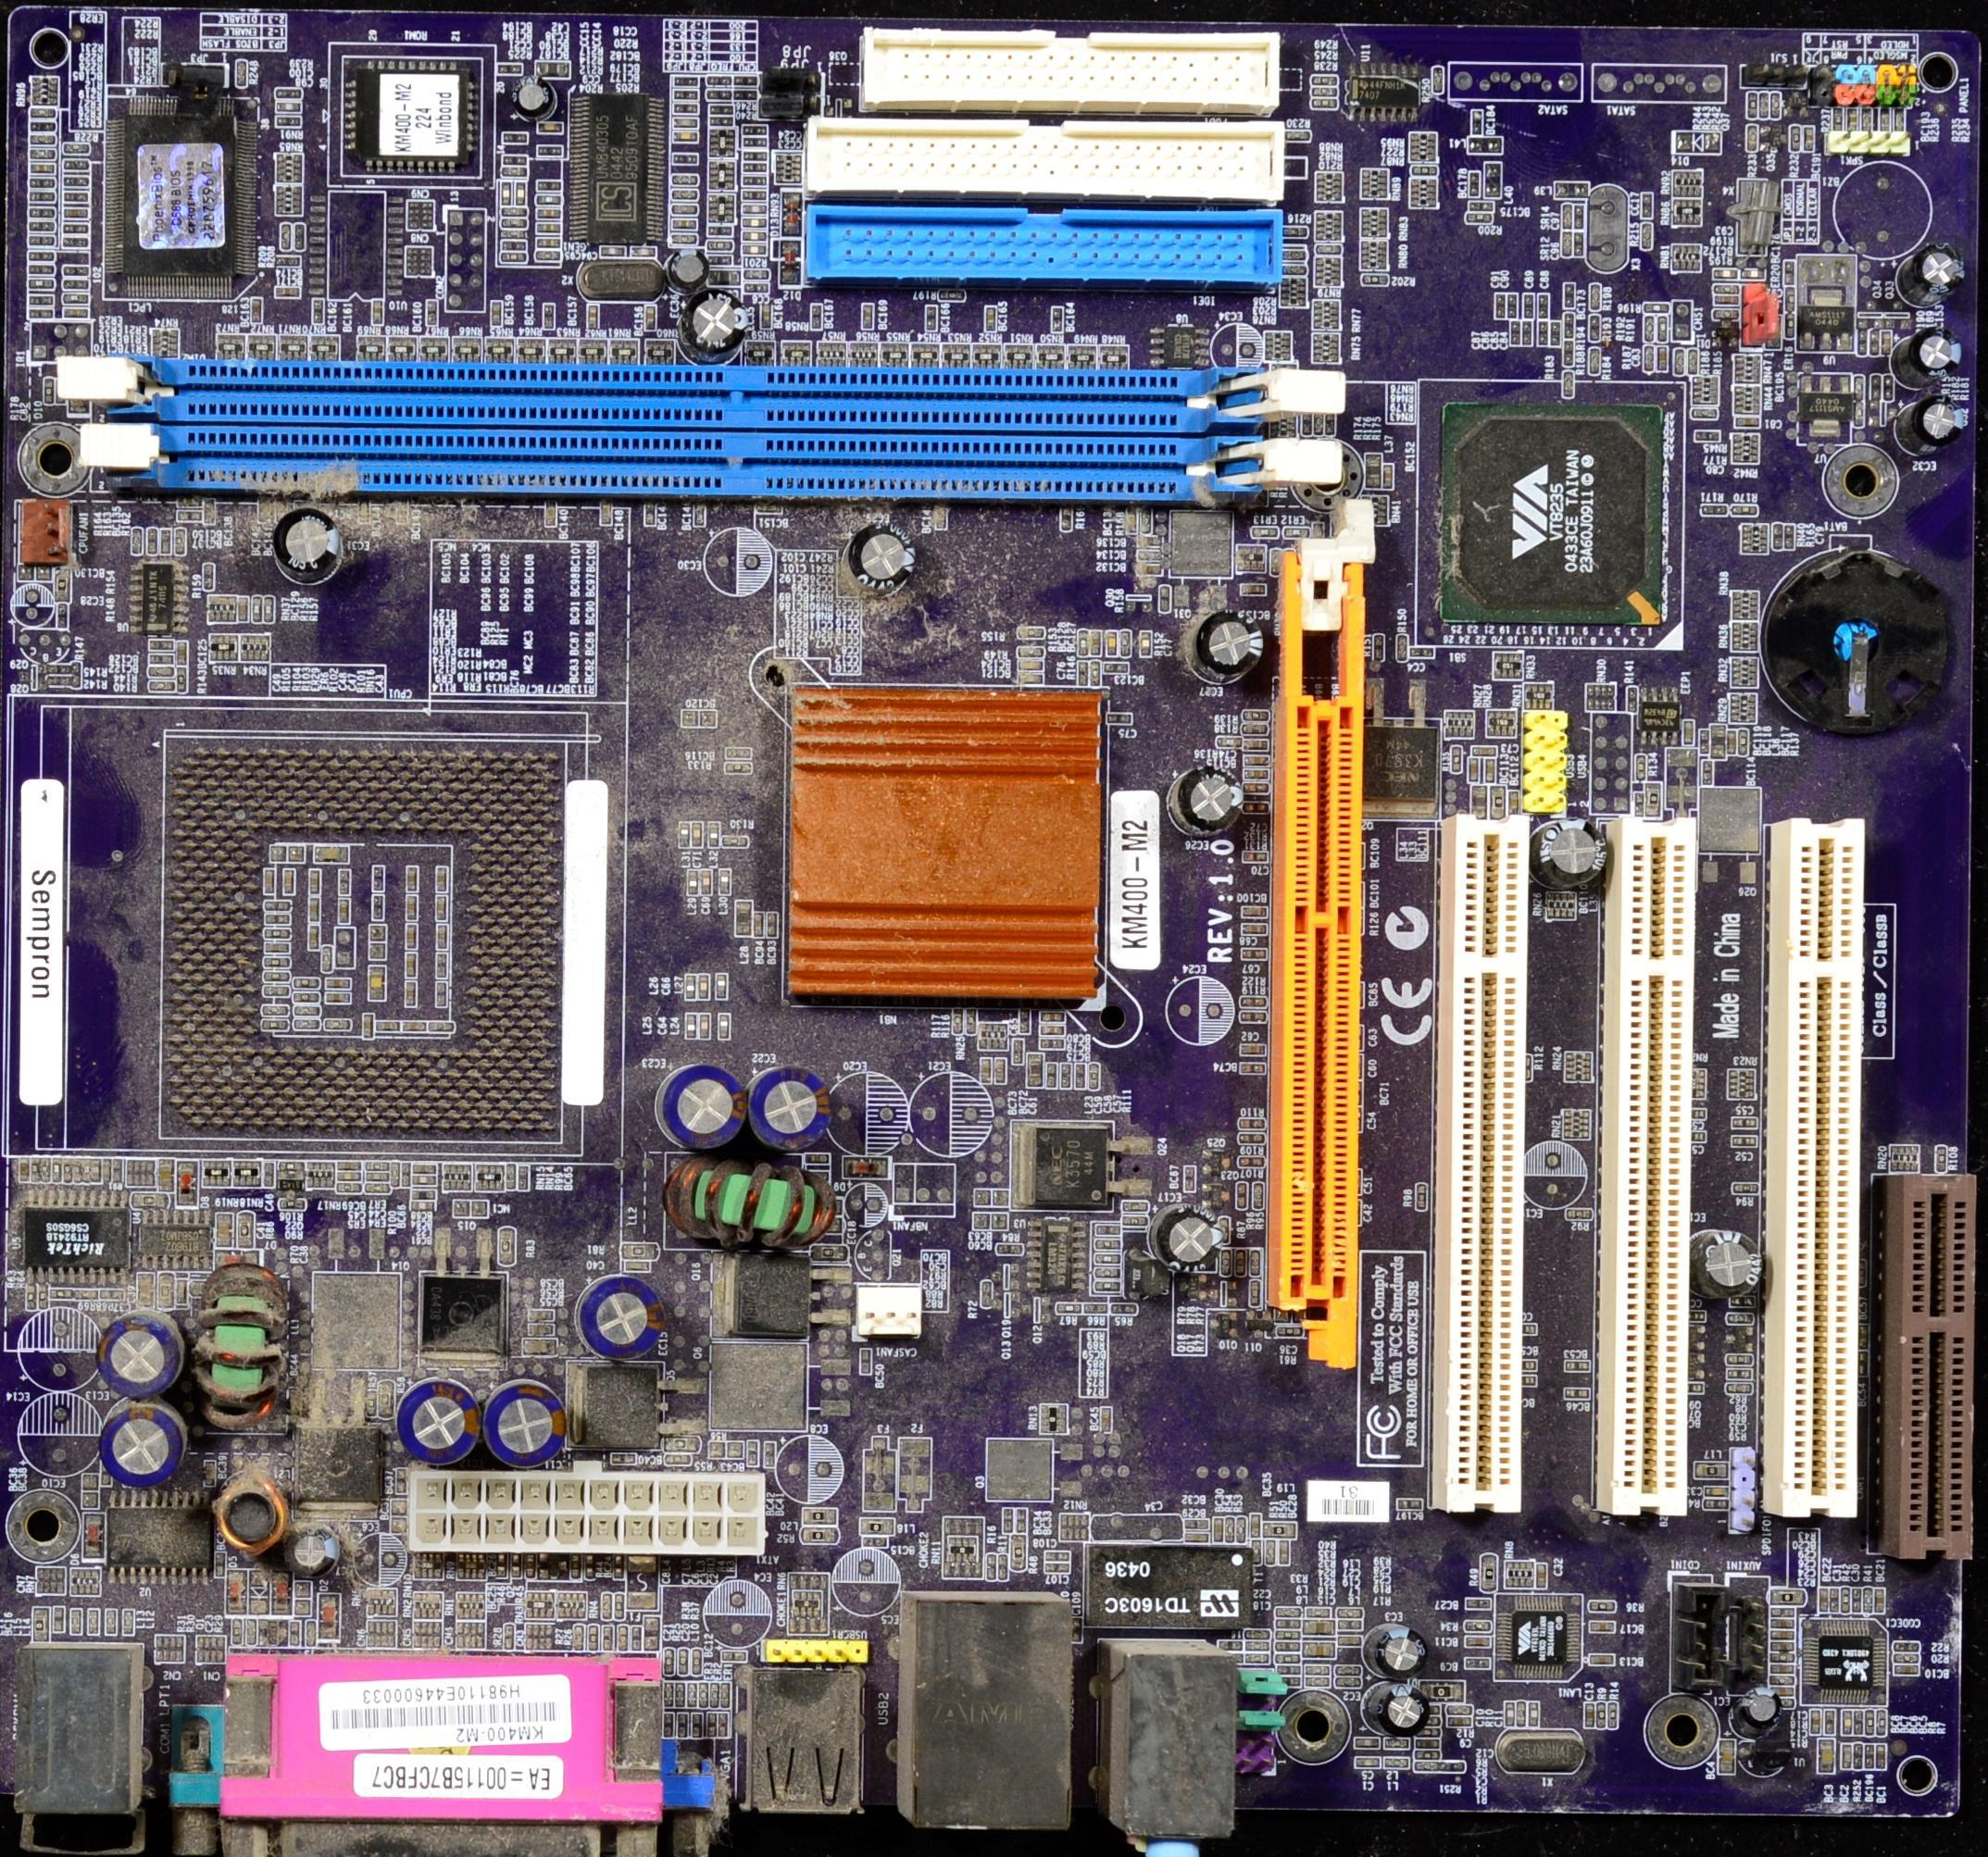Capacitor: (1531, 808, 1613, 888), (1691, 1230, 1772, 1304), (1379, 1682, 1433, 1742), (1375, 1627, 1435, 1675), (1011, 1536, 1026, 1576), (1302, 1642, 1339, 1658), (1445, 1712, 1477, 1728), (1730, 1117, 1759, 1133), (499, 180, 515, 209), (1731, 1133, 1759, 1148), (339, 1159, 367, 1175), (218, 1216, 234, 1244), (1705, 1484, 1733, 1499), (663, 1648, 677, 1679), (1536, 291, 1550, 323), (1585, 1696, 1597, 1731), (1304, 1625, 1335, 1637), (335, 1183, 361, 1197), (1829, 1583, 1840, 1618), (1496, 295, 1510, 321), (1522, 323, 1536, 349), (1042, 1564, 1072, 1576), (1508, 295, 1520, 323), (1524, 295, 1536, 321), (1503, 1702, 1515, 1726), (1049, 1550, 1070, 1564), (1512, 321, 1522, 349), (1539, 325, 1552, 347), (1241, 951, 1265, 962), (515, 183, 525, 208), (1529, 1703, 1539, 1726), (1855, 1586, 1862, 1618), (1772, 1663, 1793, 1674), (337, 1173, 361, 1182), (436, 869, 445, 894), (1539, 1562, 1546, 1592), (1012, 1042, 1023, 1061), (278, 105, 300, 113), (700, 1011, 707, 1038), (620, 1262, 648, 1269), (1253, 1515, 1260, 1543), (1246, 925, 1267, 934), (693, 822, 700, 848), (1080, 661, 1087, 686), (1777, 1689, 1796, 1698), (503, 241, 525, 248), (1658, 349, 1665, 372), (408, 869, 415, 892), (1574, 209, 1583, 227), (635, 248, 656, 255), (1553, 325, 1560, 346), (1695, 433, 1716, 440), (1141, 635, 1148, 656), (1766, 1632, 1793, 1637), (291, 1625, 298, 1644), (749, 234, 768, 241), (1728, 1374, 1752, 1379), (703, 871, 709, 895), (702, 979, 709, 997), (279, 120, 297, 127), (1574, 234, 1581, 251), (1246, 771, 1264, 778), (1243, 742, 1265, 747), (1691, 1110, 1702, 1120), (367, 1175, 387, 1180), (696, 1655, 702, 1675), (1360, 1761, 1381, 1766), (1789, 525, 1794, 546), (1108, 635, 1114, 656), (1773, 1646, 1793, 1651), (1244, 1047, 1258, 1054), (267, 1168, 272, 1185), (1360, 1742, 1377, 1747), (747, 208, 764, 213), (745, 222, 763, 227), (1747, 272, 1765, 278), (1412, 651, 1429, 656), (1644, 195, 1649, 211), (747, 248, 763, 253), (1478, 747, 1494, 752), (1023, 1012, 1026, 1033), (1721, 272, 1731, 279), (1772, 1623, 1791, 1627), (1080, 1068, 1084, 1086), (1063, 1070, 1066, 1087), (1698, 1134, 1704, 1143), (1052, 1066, 1054, 1087)
Connector: (195, 436, 1162, 483), (183, 372, 1157, 415), (1625, 853, 1681, 1515), (1796, 850, 1854, 1490), (1299, 672, 1353, 1295), (1466, 826, 1505, 1482), (1913, 1187, 1965, 1532)
IC: (581, 96, 655, 236), (21, 1208, 140, 1271), (112, 1508, 206, 1566), (1512, 1609, 1571, 1669), (1030, 1222, 1079, 1290), (1803, 286, 1857, 344), (1822, 1632, 1873, 1686), (148, 1223, 209, 1260), (1808, 382, 1848, 435), (1354, 79, 1416, 108), (147, 569, 171, 632), (1648, 696, 1676, 733), (1169, 330, 1190, 368), (1758, 1747, 1786, 1771), (1735, 419, 1759, 429)
Resistor: (1061, 1513, 1087, 1541), (1482, 1552, 1499, 1593), (1466, 209, 1494, 227), (1058, 508, 1075, 536), (236, 58, 250, 93), (271, 89, 309, 101), (1934, 1147, 1950, 1176), (239, 1216, 255, 1246), (1304, 1672, 1333, 1688), (672, 87, 700, 103), (744, 124, 771, 140), (744, 188, 771, 204), (1588, 283, 1602, 314), (1079, 625, 1091, 660), (1515, 1700, 1529, 1730), (1143, 510, 1157, 539), (175, 527, 189, 557), (499, 1230, 515, 1257), (1702, 503, 1730, 517), (204, 565, 218, 593), (1018, 646, 1045, 660), (1313, 73, 1340, 87), (1309, 87, 1340, 99), (1337, 1609, 1368, 1621), (1892, 1641, 1923, 1653), (1014, 628, 1045, 641), (997, 1555, 1011, 1581), (1272, 1623, 1307, 1634), (1789, 124, 1801, 154), (1019, 1510, 1032, 1539), (1276, 1609, 1306, 1621), (1733, 506, 1763, 518), (670, 154, 703, 164), (707, 115, 735, 127), (1243, 1641, 1271, 1653), (744, 161, 768, 175), (1309, 1665, 1333, 1679), (1004, 1511, 1016, 1538), (805, 1532, 831, 1545), (1466, 1621, 1492, 1634), (148, 667, 175, 679), (150, 681, 176, 693), (1452, 747, 1464, 773), (1635, 754, 1648, 780), (1218, 1641, 1241, 1655), (740, 136, 770, 147), (1306, 1609, 1335, 1620), (679, 1651, 689, 1681), (1608, 1702, 1618, 1731), (709, 225, 738, 236), (265, 595, 276, 625), (709, 91, 733, 103), (1567, 1209, 1592, 1222), (745, 150, 770, 162), (1246, 1627, 1271, 1639), (744, 178, 768, 190), (147, 531, 159, 555), (1731, 1183, 1759, 1194), (1704, 1501, 1731, 1511), (1864, 1588, 1875, 1616), (733, 77, 761, 87), (1110, 1304, 1133, 1316), (670, 1442, 693, 1454), (1843, 1588, 1854, 1614), (253, 597, 264, 623), (674, 79, 703, 87), (234, 1620, 244, 1644), (1449, 1705, 1473, 1716), (707, 77, 731, 87), (1248, 803, 1269, 815), (1630, 688, 1639, 716), (1286, 131, 1309, 141), (1590, 318, 1601, 340), (712, 105, 738, 113), (988, 1555, 997, 1581), (56, 578, 65, 604), (1436, 66, 1445, 93), (737, 91, 757, 101), (1400, 634, 1407, 665), (675, 105, 700, 113), (1599, 1705, 1608, 1730), (134, 531, 143, 555), (267, 901, 291, 909), (1126, 1215, 1145, 1225), (428, 1023, 450, 1031), (506, 1166, 515, 1189), (278, 1201, 300, 1209), (1222, 1215, 1231, 1237), (578, 1627, 586, 1649), (248, 1618, 255, 1646), (1693, 412, 1721, 419), (1059, 1300, 1075, 1312), (298, 997, 316, 1007), (998, 1244, 1016, 1255), (1084, 1305, 1101, 1316), (1279, 1326, 1300, 1335), (1779, 1593, 1799, 1602), (1895, 1656, 1922, 1663), (1592, 353, 1601, 373), (307, 1623, 314, 1648), (538, 199, 562, 206), (1742, 731, 1749, 756), (1773, 1651, 1789, 1662), (267, 972, 290, 979), (1096, 1257, 1119, 1264), (1251, 1251, 1258, 1274), (983, 1283, 990, 1305), (504, 208, 527, 215), (1121, 634, 1128, 656), (726, 764, 749, 771), (265, 1021, 283, 1030), (283, 1171, 300, 1180), (670, 1456, 688, 1464), (33, 148, 51, 157), (1253, 1546, 1262, 1564), (1370, 276, 1388, 284), (1869, 382, 1878, 400), (267, 991, 288, 998), (1234, 1253, 1241, 1274), (1098, 1265, 1119, 1272), (1251, 1286, 1258, 1307), (592, 1627, 599, 1648), (66, 227, 87, 234), (1285, 230, 1306, 237), (44, 382, 51, 403), (47, 665, 75, 670), (1421, 1187, 1426, 1213), (1231, 1518, 1236, 1545), (35, 180, 51, 188), (297, 230, 305, 246), (283, 225, 288, 251), (1244, 1000, 1264, 1007), (1243, 1187, 1250, 1206), (1225, 1251, 1232, 1271), (504, 1627, 511, 1646), (66, 162, 86, 169), (1878, 1712, 1885, 1731), (747, 269, 766, 276), (1777, 527, 1784, 546), (1241, 1070, 1265, 1075), (117, 1161, 122, 1185), (501, 230, 525, 236), (724, 839, 749, 845), (967, 1014, 974, 1031), (326, 1023, 344, 1030), (1883, 112, 1890, 129), (630, 1244, 648, 1251), (1772, 1677, 1789, 1684), (68, 178, 86, 185), (1857, 380, 1864, 398), (1306, 415, 1313, 433), (955, 1011, 960, 1033), (1255, 1183, 1260, 1206), (1239, 1517, 1244, 1539), (1868, 1712, 1873, 1735), (1857, 1745, 1862, 1768), (51, 679, 73, 684), (1316, 103, 1337, 108), (1093, 1070, 1098, 1091), (1895, 113, 1902, 129), (1751, 127, 1756, 148), (33, 209, 54, 215), (1567, 318, 1573, 337), (1660, 319, 1665, 339), (1567, 344, 1573, 363), (1218, 738, 1237, 743), (1267, 1545, 1274, 1559), (1248, 710, 1262, 717), (1250, 784, 1264, 791), (1834, 110, 1840, 127), (1866, 112, 1871, 129), (944, 295, 962, 300), (1857, 407, 1862, 424), (1318, 415, 1323, 433), (1374, 641, 1379, 658), (1243, 728, 1260, 733), (1751, 99, 1756, 115), (1773, 99, 1779, 115), (1246, 1119, 1262, 1124), (37, 126, 52, 131), (37, 195, 52, 201), (1286, 255, 1302, 260), (1649, 307, 1665, 312), (1326, 417, 1332, 433), (1096, 1285, 1119, 1288), (1728, 1388, 1751, 1391), (1646, 349, 1649, 372), (298, 981, 319, 984), (1527, 1058, 1531, 1079), (1244, 1140, 1265, 1143), (1124, 1204, 1145, 1208), (1098, 1244, 1112, 1250), (1595, 1602, 1609, 1607), (606, 1597, 609, 1618), (1646, 227, 1649, 248), (1719, 286, 1733, 291), (1731, 1360, 1751, 1363), (539, 253, 559, 257), (504, 257, 524, 260), (1648, 321, 1651, 340), (1679, 353, 1683, 372), (1567, 375, 1571, 394), (1288, 267, 1300, 272), (1765, 98, 1768, 115), (1717, 311, 1735, 314), (1693, 353, 1697, 370), (1096, 663, 1100, 681), (1243, 1162, 1258, 1166), (33, 138, 49, 141), (508, 223, 524, 227), (1887, 384, 1890, 400), (1780, 1703, 1793, 1707)
Transistor: (1018, 1129, 1105, 1199), (424, 1281, 503, 1356), (1370, 733, 1429, 803), (1244, 1318, 1267, 1344), (1182, 1279, 1206, 1300), (1220, 1316, 1241, 1339), (1206, 1183, 1224, 1206), (1789, 94, 1808, 113), (262, 1620, 276, 1642), (283, 1182, 305, 1194), (1208, 1154, 1220, 1175)
